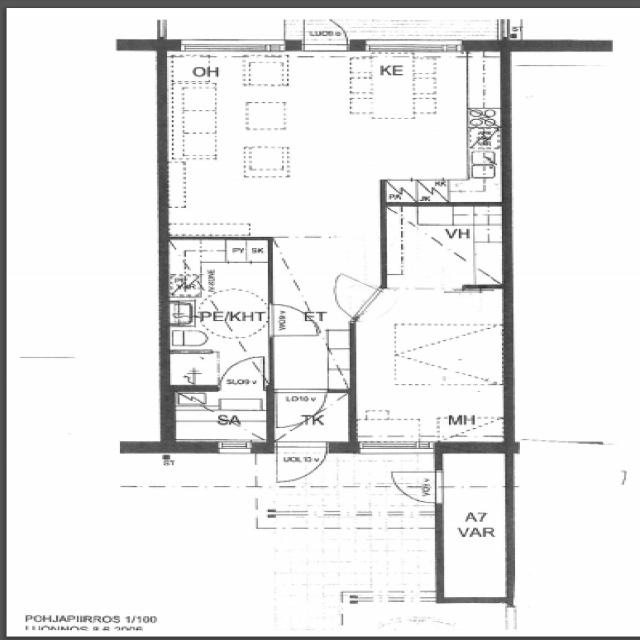door: (274, 440, 329, 486), (328, 271, 374, 325), (386, 470, 448, 508), (265, 300, 324, 339), (299, 16, 355, 54), (216, 356, 268, 391)
window: (172, 36, 288, 56), (358, 36, 471, 56), (384, 280, 450, 298), (212, 438, 257, 456), (602, 34, 640, 54)
zone: (160, 47, 496, 226), (352, 288, 507, 447), (163, 237, 271, 382), (379, 200, 508, 290), (439, 450, 510, 601), (166, 387, 274, 448)
